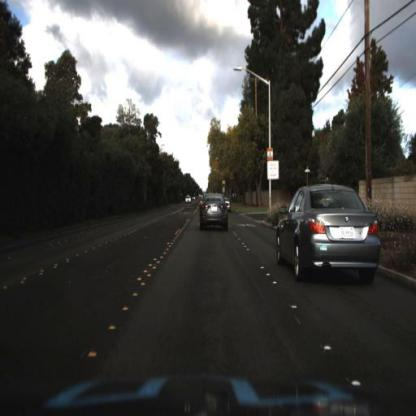car: (273, 179, 383, 286), (198, 189, 231, 236), (186, 196, 192, 205)
